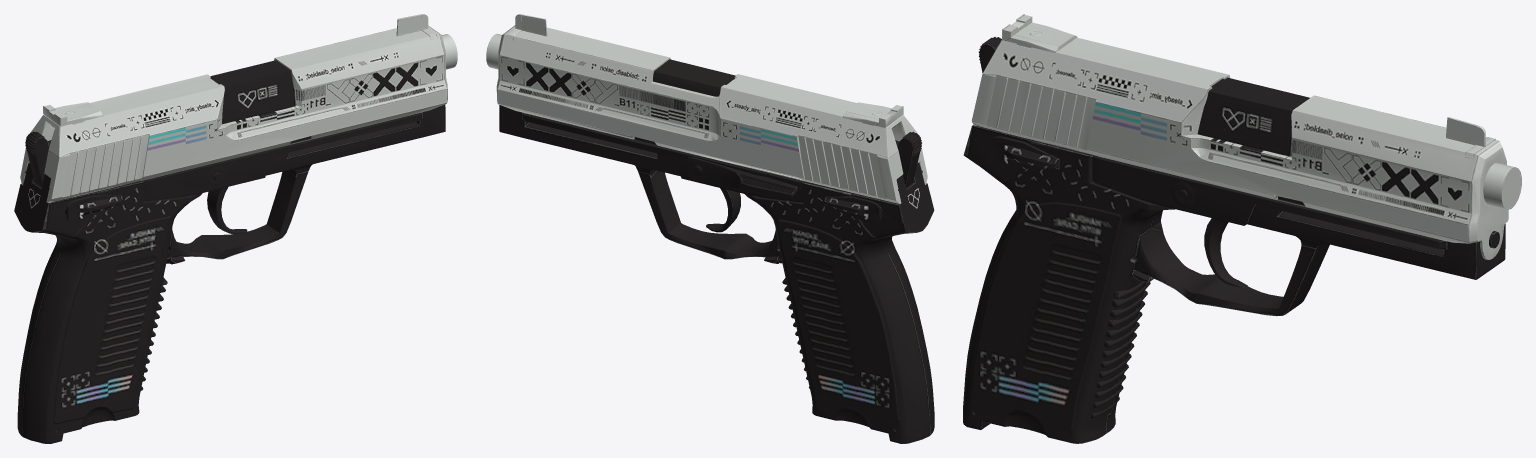
Rendered from w_pistolmk2_printstream.glb.
3 renders of one model, left to right at view 1: azimuth 30°, elevation 25°; view 2: azimuth 150°, elevation 25°; view 3: azimuth 330°, elevation 25°, orthographic. The views are drawn at different scales.
Parts seen in each view (by area): view 1: Gun_Root; view 2: Gun_Root; view 3: Gun_Root.
Part boxes in pixels (x1=…): Gun_Root: x1=14, y1=14, x2=457, y2=443; Gun_Root: x1=486, y1=14, x2=934, y2=443; Gun_Root: x1=963, y1=14, x2=1521, y2=443.
Size of the model in its own units: 0.1898 by 0.1366 by 0.0295.
Materials: 1 (1 with a texture image).
